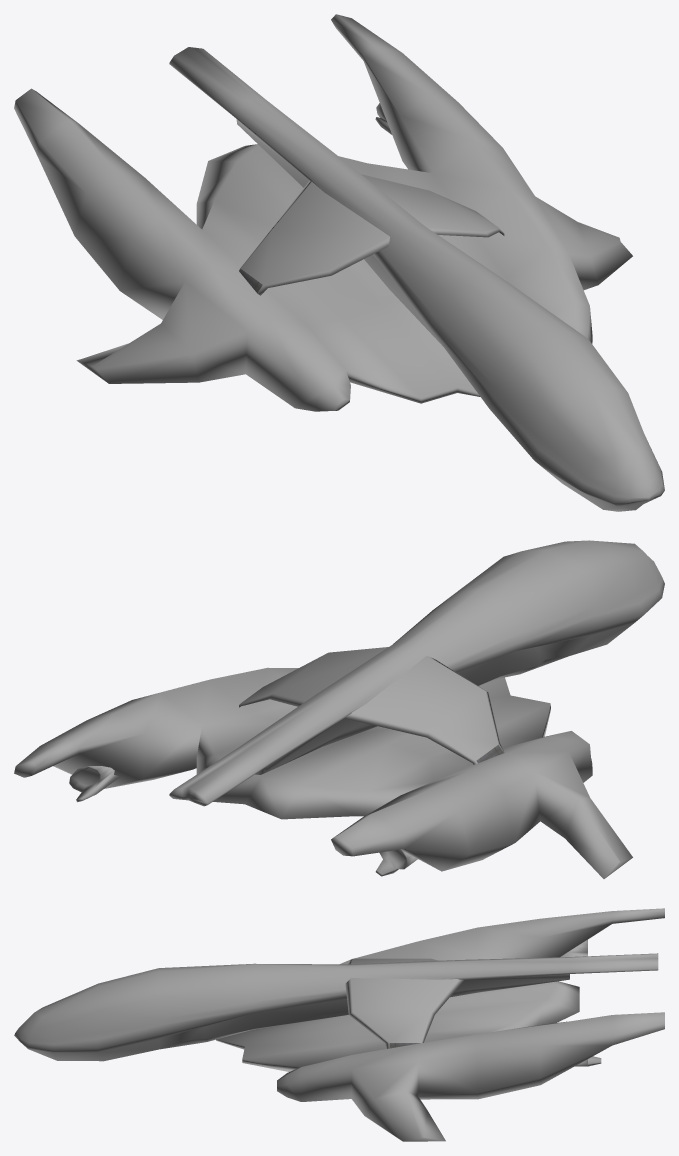
File: Ucorvette01.dae
3 views of the same model, one above another, from view 1: azimuth 30°, elevation 25°; view 2: azimuth 150°, elevation 25°; view 3: azimuth 270°, elevation 25° (orthographic). The views are drawn at different scales.
Visible parts, largest first — view 1: UGTOcorvette; view 2: UGTOcorvette; view 3: UGTOcorvette.
Part boxes in pixels (x1,y1,x2,y2): UGTOcorvette: (14,14,664,511); UGTOcorvette: (14,540,664,878); UGTOcorvette: (14,908,664,1141).
Size of the model in its own units: 4.67 by 1.27 by 7.14.
